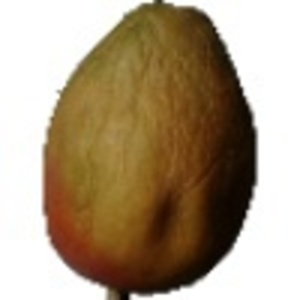mamão: (25, 3, 268, 292)
